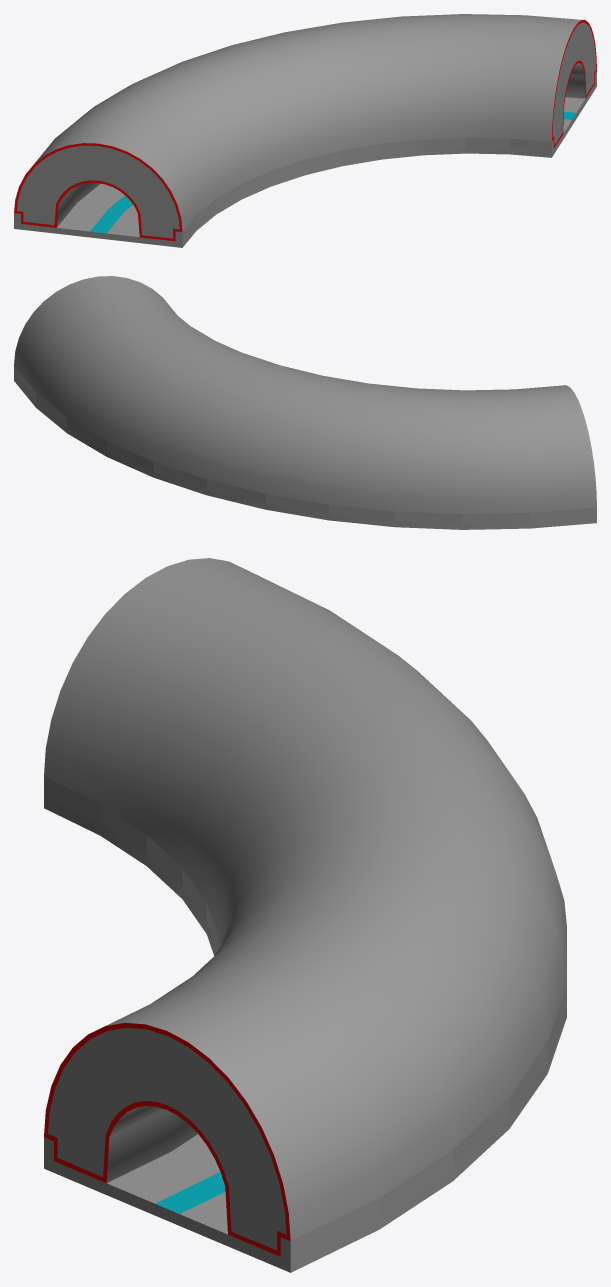
Rendered from mesh_road_tunnel_curve_90.FBX.
The picture shows the model from 3 angles, top to bottom: view 1: azimuth 30°, elevation 25°; view 2: azimuth 150°, elevation 25°; view 3: azimuth 270°, elevation 25°; orthographic projection. The views are drawn at different scales.
Visible parts, largest first — view 1: Box001; view 2: Box001; view 3: Box001.
Boxes of the visible parts, x1=… form: Box001: x1=14, y1=14, x2=596, y2=247; Box001: x1=14, y1=276, x2=596, y2=529; Box001: x1=44, y1=558, x2=566, y2=1272.
Bounding box in the file's own units: 154 × 24 × 59.97.
